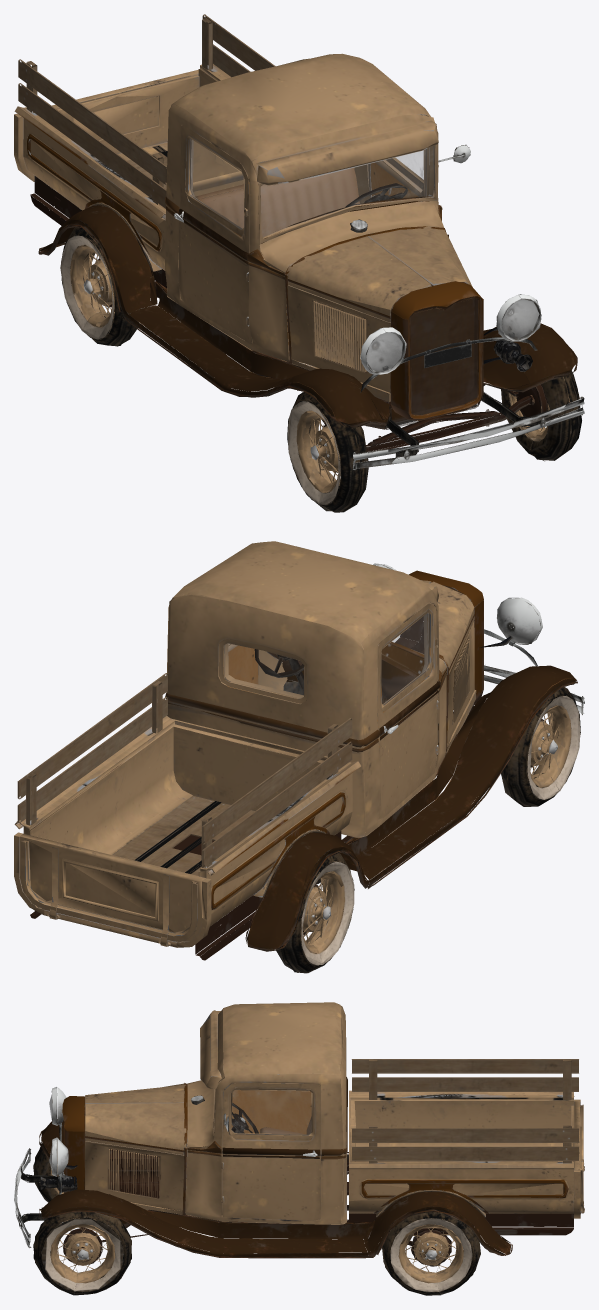
File: pickup.glb
3 views of the same model, one above another, from view 1: azimuth 30°, elevation 25°; view 2: azimuth 150°, elevation 25°; view 3: azimuth 270°, elevation 25° (orthographic). The views are drawn at different scales.
Visible parts, largest first — view 1: Modell, Vorn_R, Hinten_R, Vorn_L; view 2: Modell, Vorn_R, Hinten_R; view 3: Modell, Vorn_L, Hinten_L, Vorn_R.
Boxes of the visible parts, x1=… form: Modell: x1=14, y1=14, x2=584, y2=472; Vorn_R: x1=287, y1=392, x2=368, y2=512; Hinten_R: x1=60, y1=223, x2=137, y2=346; Vorn_L: x1=501, y1=370, x2=581, y2=461; Modell: x1=14, y1=541, x2=584, y2=960; Vorn_R: x1=501, y1=687, x2=580, y2=806; Hinten_R: x1=276, y1=850, x2=354, y2=973; Modell: x1=14, y1=1002, x2=584, y2=1266; Vorn_L: x1=33, y1=1212, x2=131, y2=1295; Hinten_L: x1=382, y1=1206, x2=480, y2=1295; Vorn_R: x1=33, y1=1144, x2=63, y2=1202.
Bounding box in the file's own units: 1.71 × 1.9 × 4.31.
7 materials, 7 textured.
